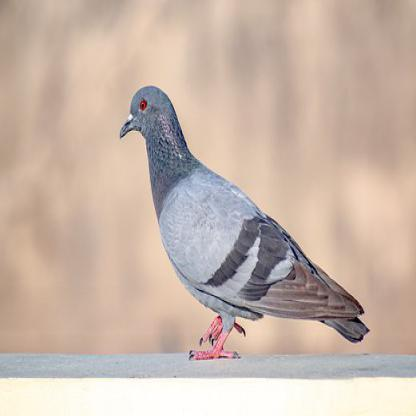Rock Pigeon: (120, 78, 371, 342)
